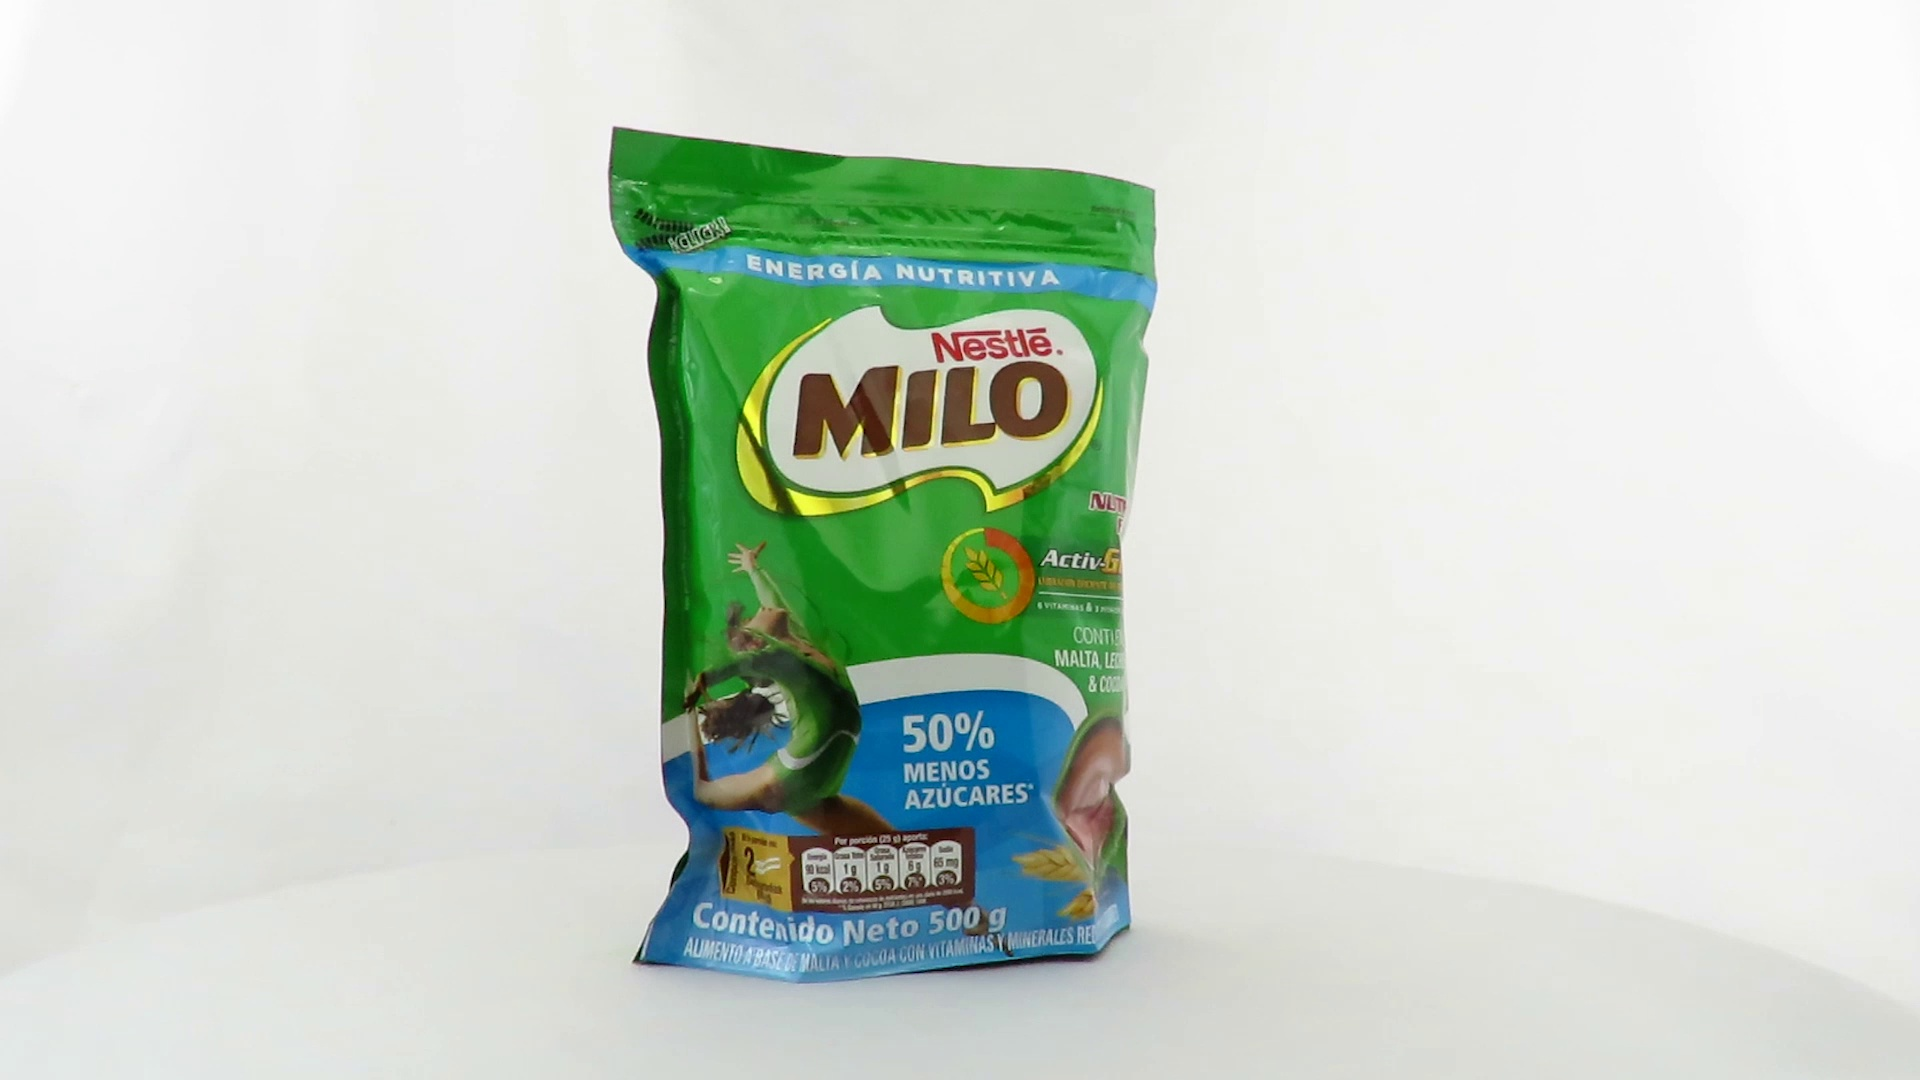COL0170205DYP50000: (603, 121, 1164, 990)
